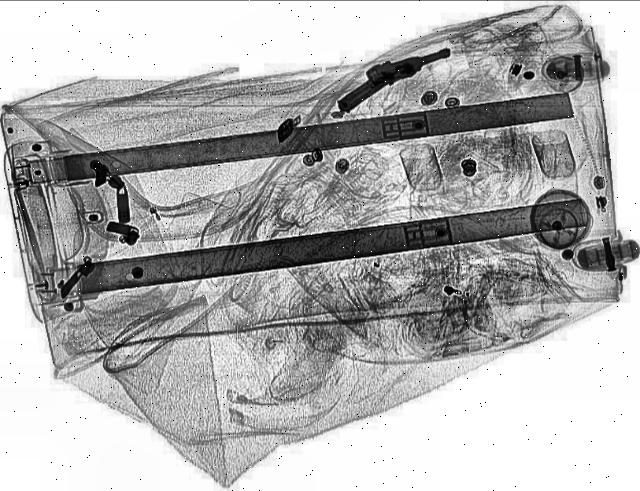Gun: (314, 42, 466, 116)
